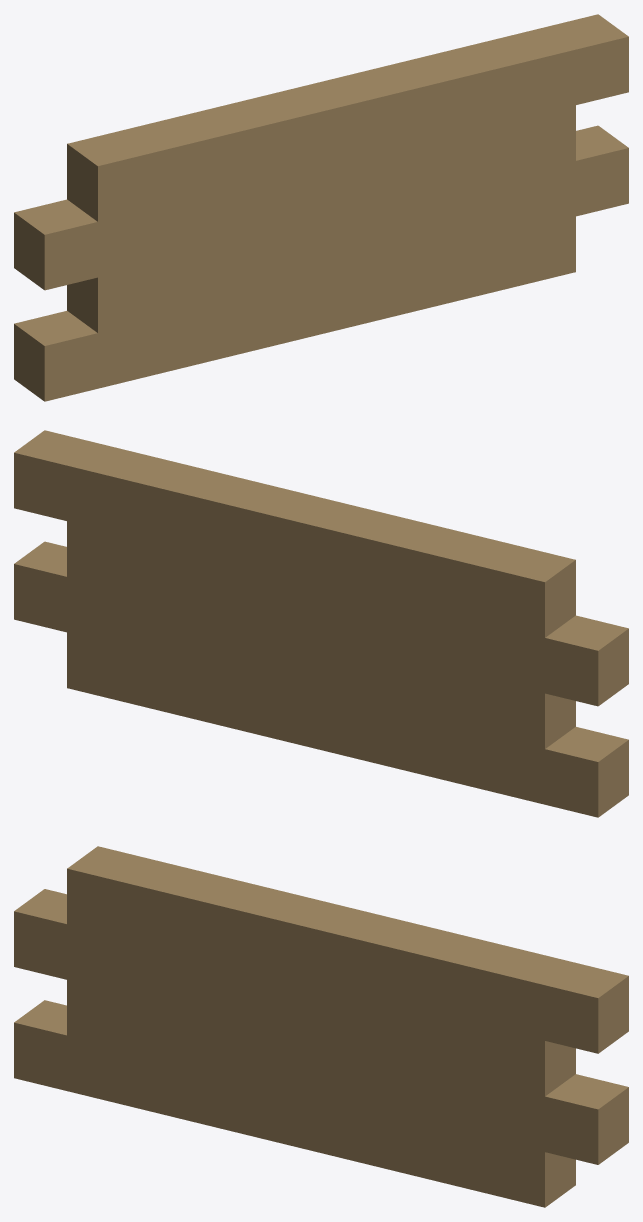
File: Wall_Block_x5.fbx
3 renders of one model, top to bottom at view 1: azimuth 30°, elevation 25°; view 2: azimuth 150°, elevation 25°; view 3: azimuth 330°, elevation 25°, orthographic.
Visible parts, largest first — view 1: Wall_Block_x5; view 2: Wall_Block_x5; view 3: Wall_Block_x5.
Part boxes in pixels (x1,y1,x2,y2): Wall_Block_x5: [14, 14, 628, 401]; Wall_Block_x5: [14, 430, 628, 817]; Wall_Block_x5: [14, 846, 628, 1207].
Bounding box in the file's own units: 5.5 × 2 × 0.5.
